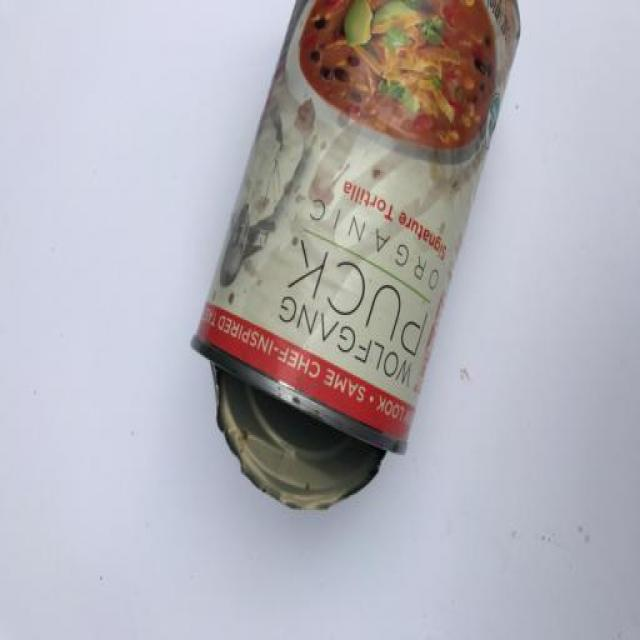metel: (150, 1, 619, 526)
